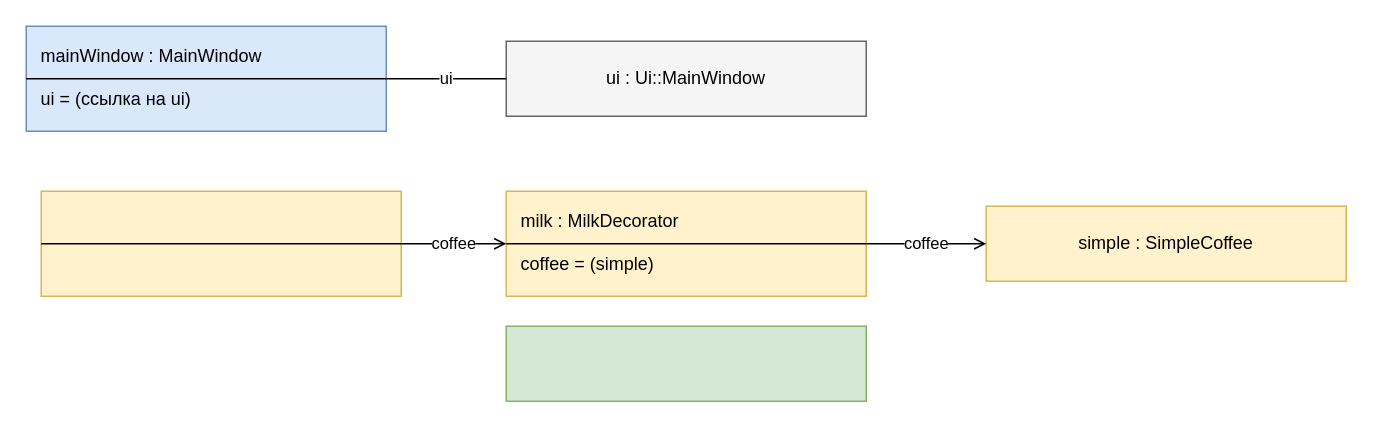
This 1373x428 diagram has some shape labels left out. The centre of each missing label's shape, as x and y in pixels:
"brewer : MilkCappuccinoBrewer" belongs at [685,363].
"sugar : SugarDecorator coffee = (milk)" belongs at [220,243].
